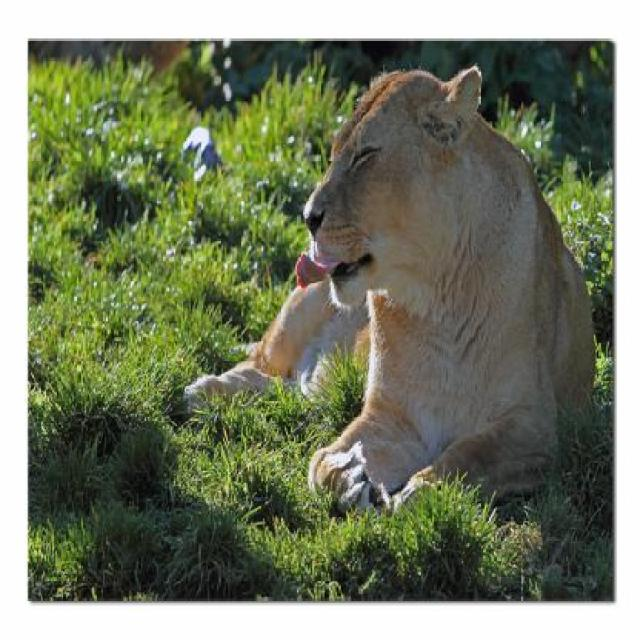Lion: (175, 51, 600, 562)
